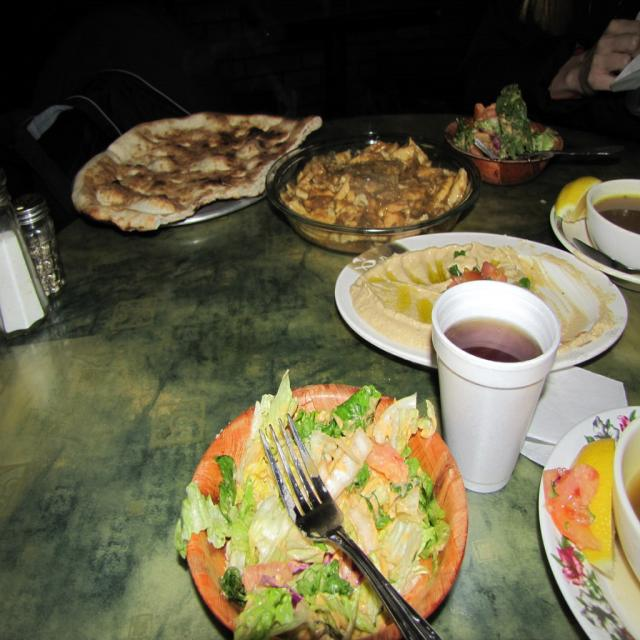Tea: (444, 313, 542, 364)
